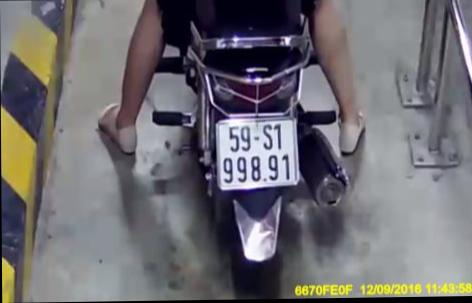LP: (213, 110, 303, 196)
